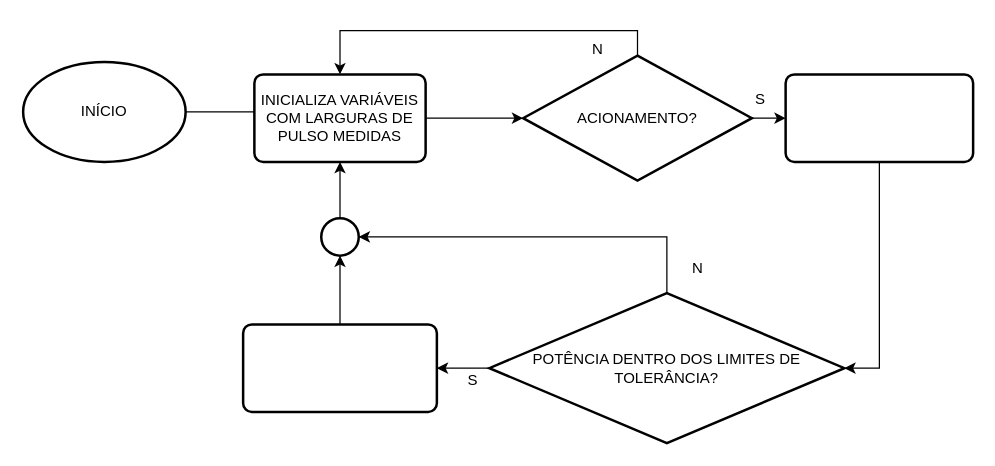
The diagram is 995 pixels wide and 466 high, and some of its shapes have lost their labels. Each missing label, with the centre of its shape:
"ATRIBUI NOVO CICLO DE TRABALHO AO MAGNETRON" goes at (339,367).
"CALCULA A POTÊNCIA SOLICITADA (CICLO DE TRABALHO)" goes at (879,117).
